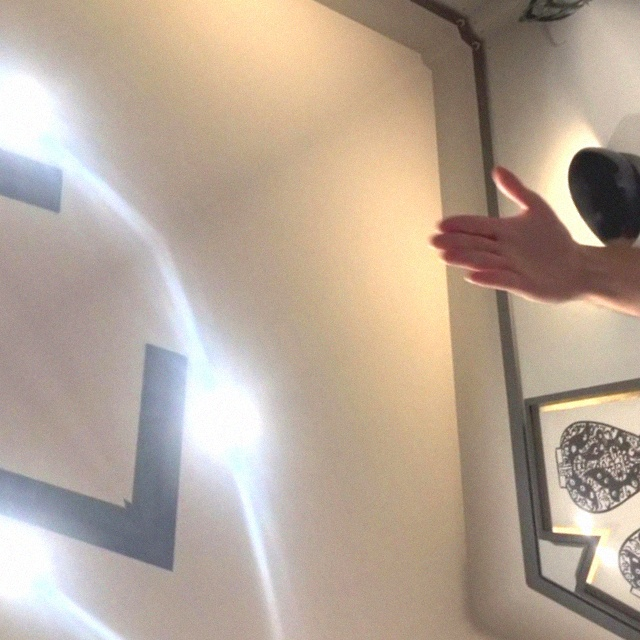Paper: (174, 0, 395, 29)
